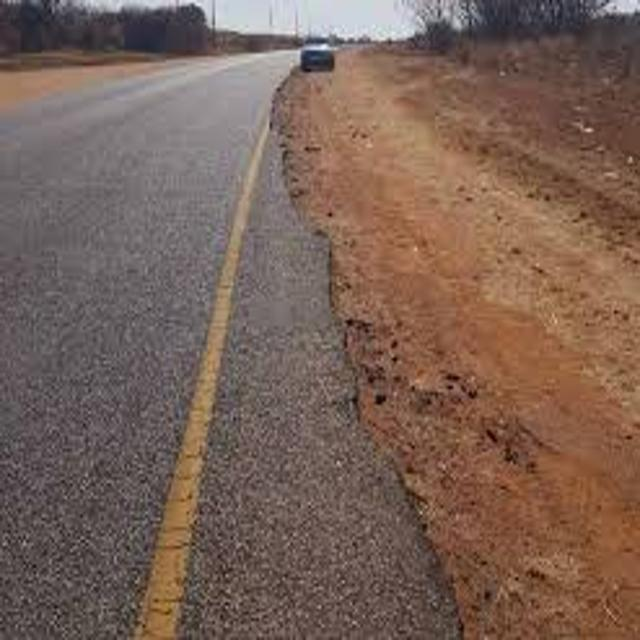Pinggir: (237, 79, 512, 640)
